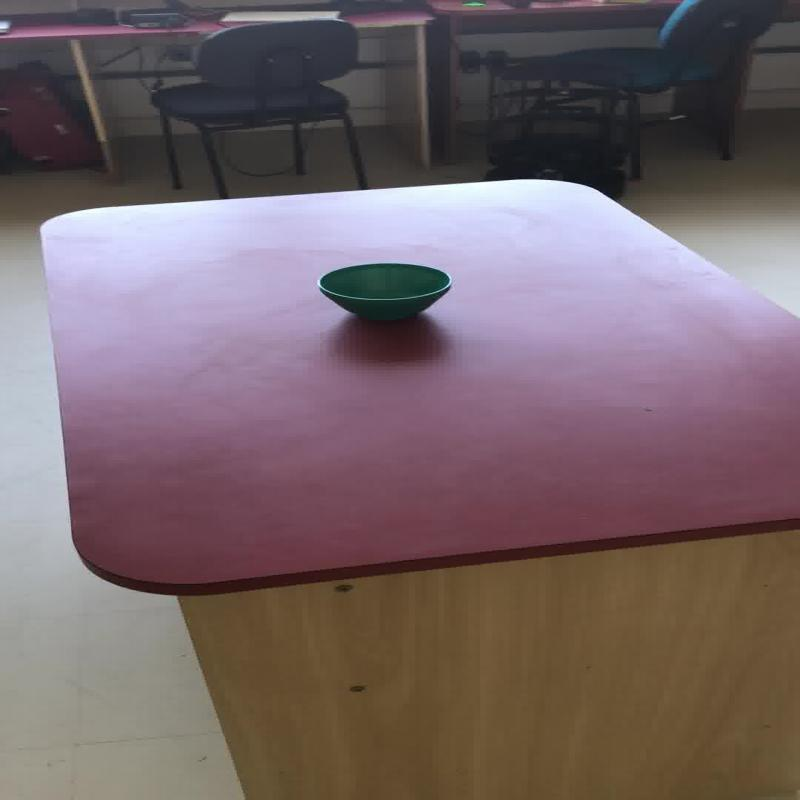bowl: (314, 262, 452, 320)
